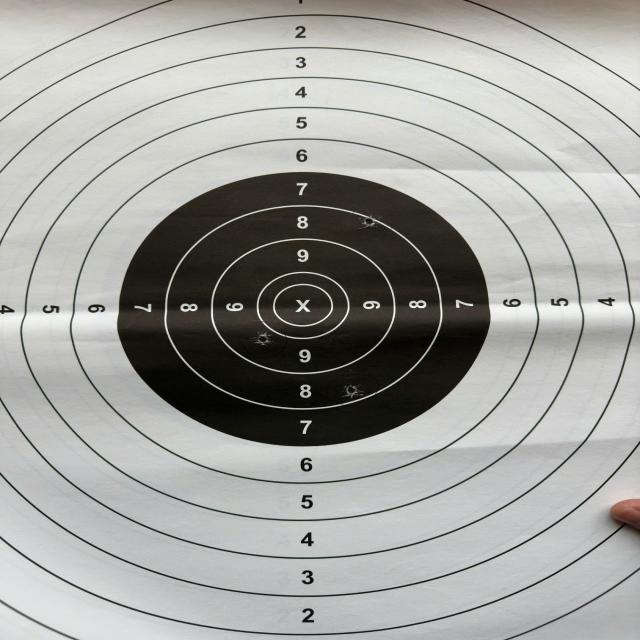bullet: (344, 384, 364, 400), (256, 332, 272, 347), (365, 216, 376, 228)
target: (0, 0, 640, 640)
